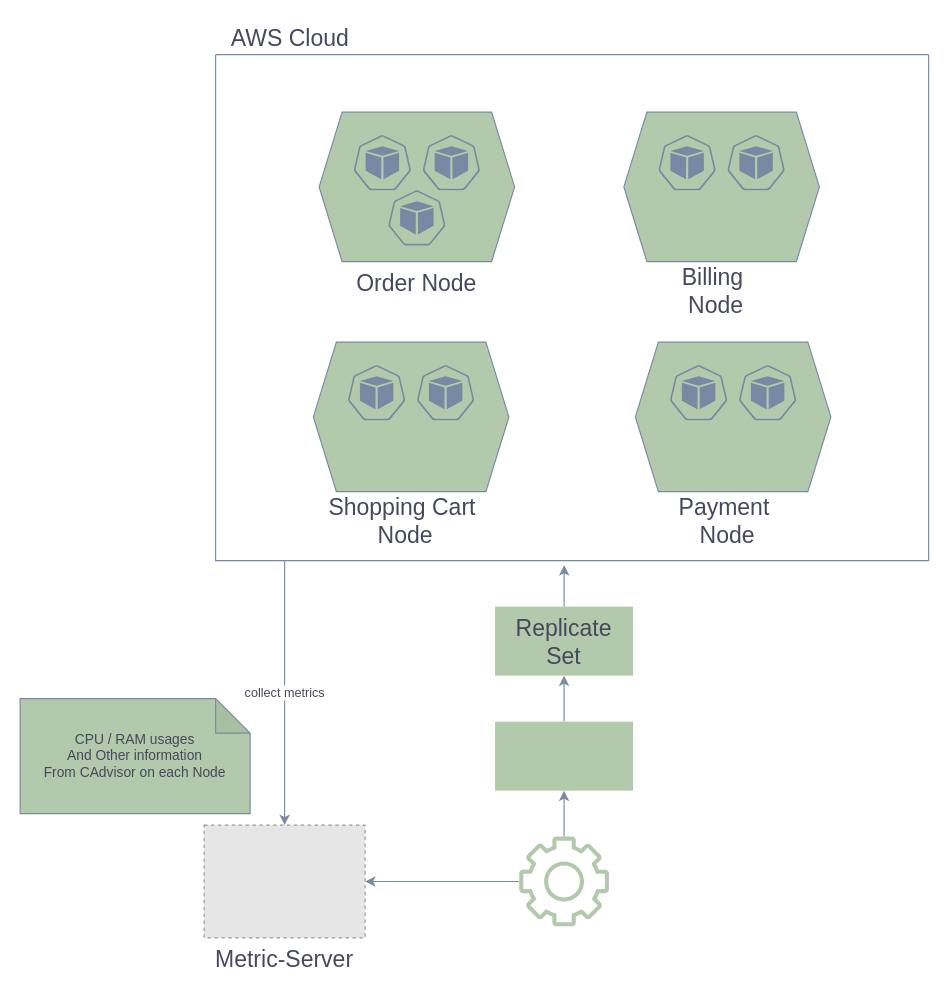
This 949x991 diagram has some shape labels left out. Grey dashed boxes stand in for pictures. Each missing label, with the centre of its shape:
"Deployment" belongs at point 563,755.
"Horizontal Pod Autoscale" belongs at point 563,881.
